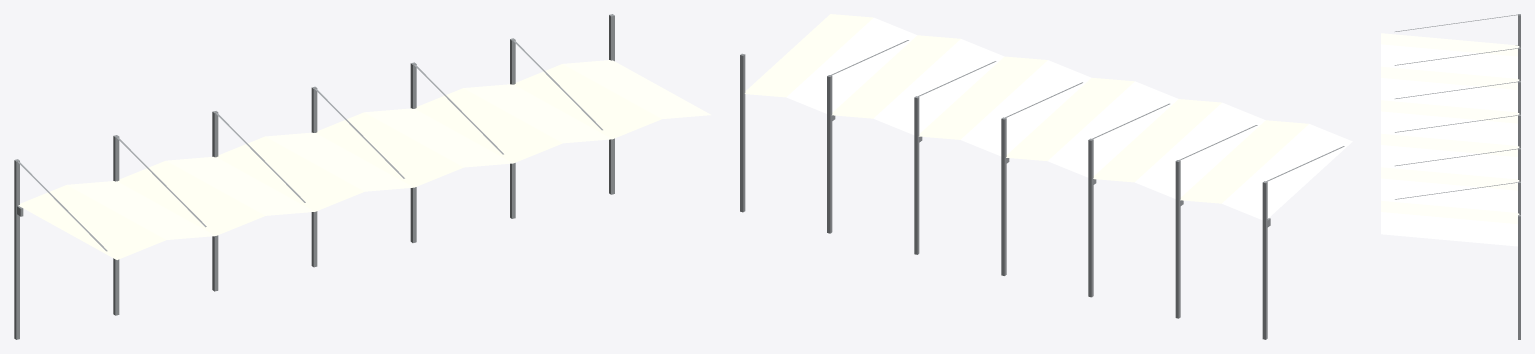
The model's file is stand_roof_70.glb.
The picture shows the model from 3 angles, left to right: view 1: azimuth 30°, elevation 25°; view 2: azimuth 150°, elevation 25°; view 3: azimuth 270°, elevation 25°; orthographic projection. The views are drawn at different scales.
Visible parts, largest first — view 1: chunk_0_0; view 2: chunk_0_0; view 3: chunk_0_0.
Boxes of the visible parts, <box> form: chunk_0_0: <box>14,14,710,339</box>; chunk_0_0: <box>740,14,1352,339</box>; chunk_0_0: <box>1381,14,1520,339</box>.
Size of the model in its own units: 70.24 by 20 by 20.52.
